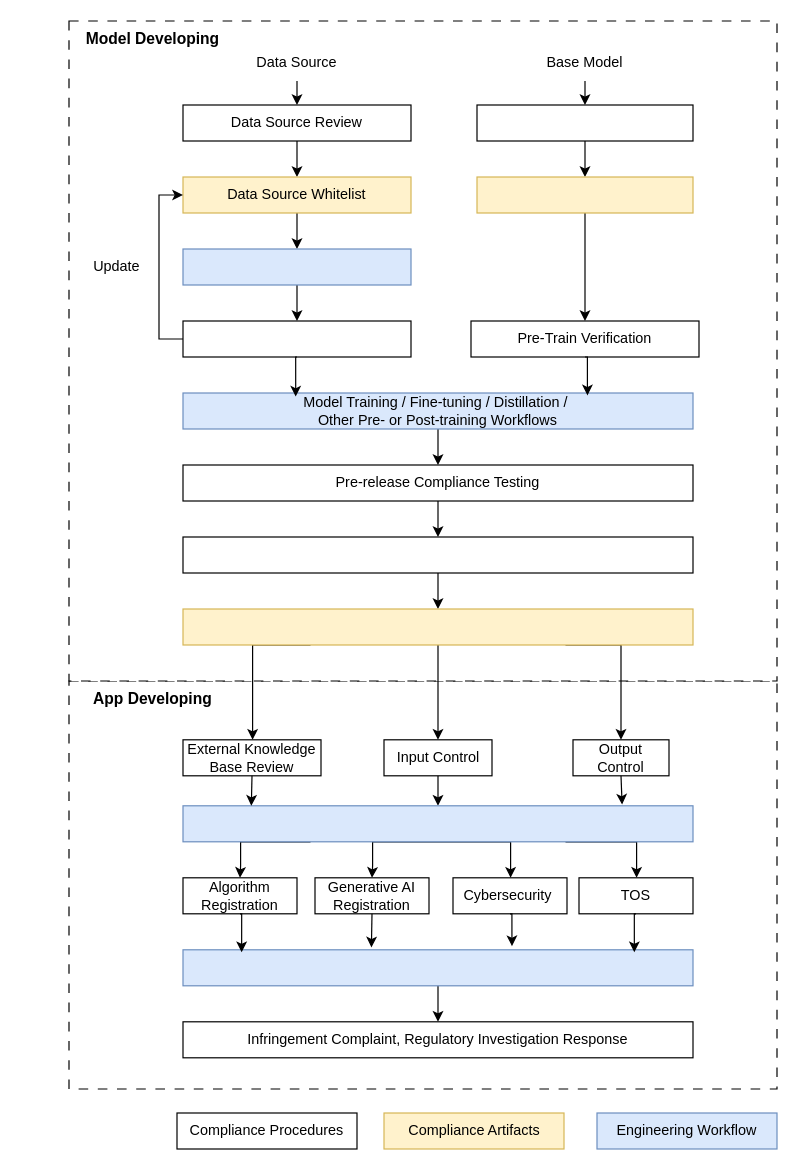
The diagram is 798 pixels wide and 1170 high, and some of its shapes have lost their labels. The shapes that lost their labels are listed below. From the top down, each one's centre as x and y in pixels, then its label:
the point at 584,122: Base Model Review
the point at 584,194: Base Model Whitelist
the point at 296,266: Data Curation
the point at 296,338: Data Source Verification
the point at 437,554: License Choosing/Drafting, License Compatibility Testing
the point at 437,626: Model Bill of Materials (AI-BOM), Compliance Documents
the point at 437,823: AI Application Development
the point at 437,967: Application Online
